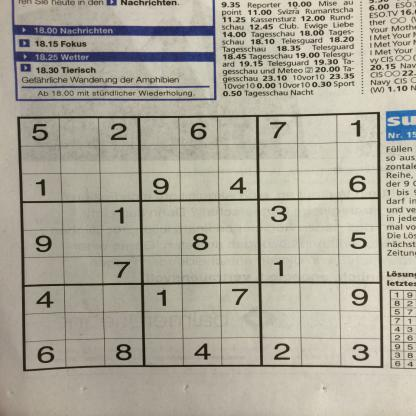sudoku: (15, 109, 386, 375)
